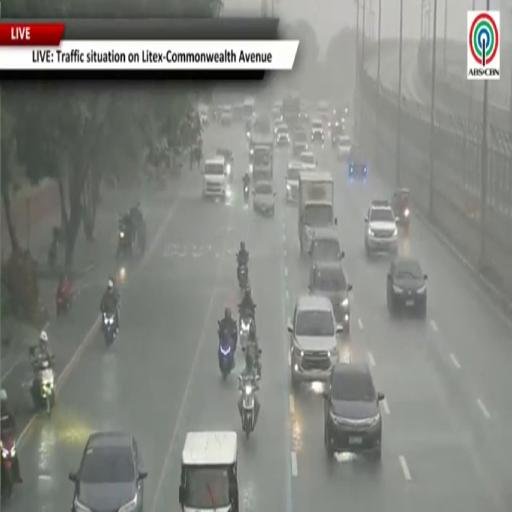car: (69, 432, 147, 511), (324, 362, 384, 461), (288, 295, 342, 388), (309, 262, 352, 334), (387, 258, 427, 318), (365, 200, 398, 257), (309, 228, 344, 264), (252, 180, 276, 217), (348, 143, 367, 178), (286, 162, 302, 201), (217, 149, 233, 180), (293, 127, 308, 157), (329, 106, 347, 127), (337, 136, 351, 161), (331, 125, 346, 148), (310, 119, 324, 143), (299, 152, 317, 170), (276, 125, 290, 147), (318, 101, 330, 125), (292, 140, 308, 157), (293, 126, 308, 142), (221, 106, 233, 125), (272, 101, 282, 122), (233, 104, 244, 122), (274, 121, 288, 135), (300, 101, 309, 122), (246, 119, 253, 139)
motorcycle: (30, 348, 55, 415), (239, 376, 259, 439), (0, 431, 16, 498), (392, 189, 411, 233), (218, 333, 235, 379), (242, 341, 261, 377), (116, 221, 133, 259), (56, 283, 74, 316), (48, 227, 61, 269), (102, 312, 117, 347), (240, 312, 254, 346), (137, 220, 146, 255), (48, 239, 58, 269), (238, 264, 248, 290), (244, 184, 250, 202)
truck: (298, 170, 337, 254), (203, 156, 227, 198), (249, 131, 273, 164), (251, 146, 272, 183), (282, 93, 300, 130)
